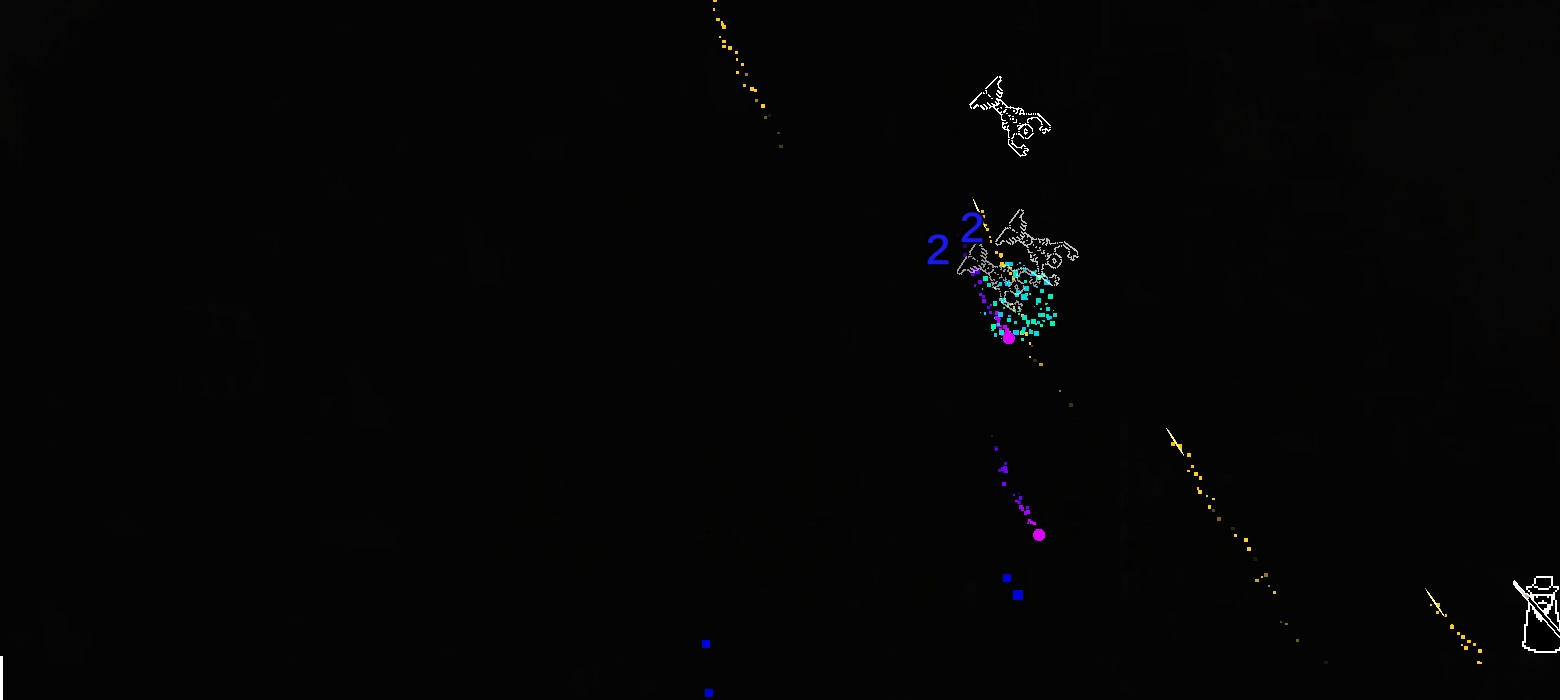enemy: (968, 75, 1051, 158), (995, 208, 1080, 287), (957, 240, 1041, 313)
